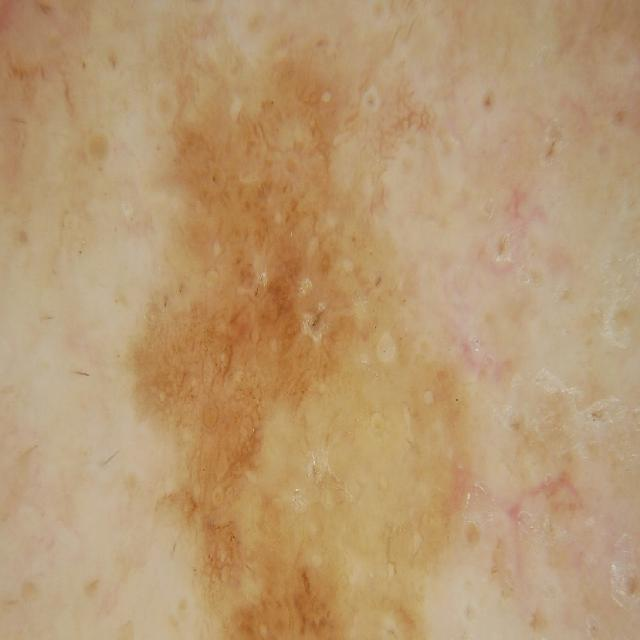Melanoma: (112, 56, 497, 640)
